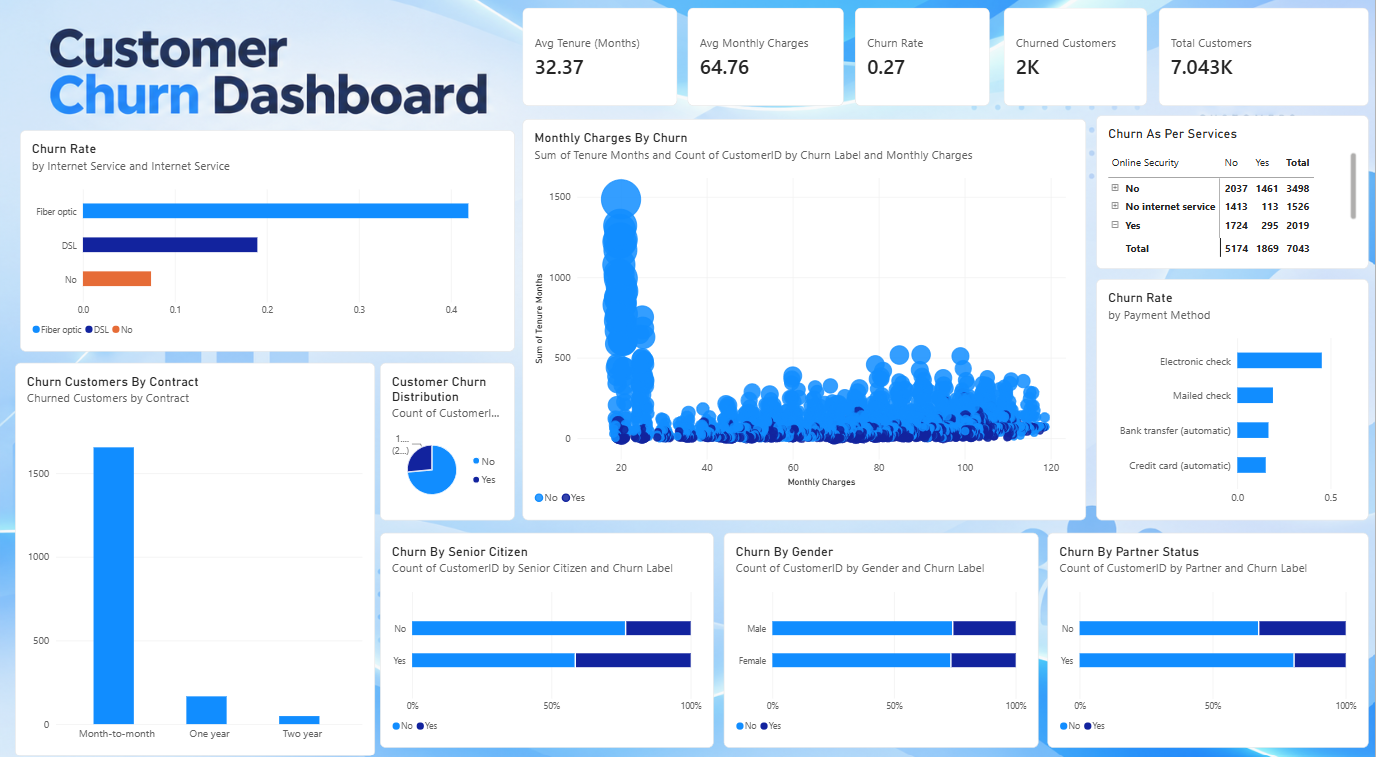

What the dashboard file says about the page in this screenshot:
{"tool":"powerbi","page":{"name":"Page 4","canvas":[1920,1080],"ordinal":0},"visuals":[{"type":"cardVisual","fields":{"Data":["Cleaned_Churn.Avg Tenure"]},"box":[729.1,19.2,216.3,137.8],"z":0},{"type":"cardVisual","fields":{"Data":["Cleaned_Churn.Avg Monthly Charges"]},"box":[959.3,19.2,218,137.8],"z":1000},{"type":"cardVisual","fields":{"Data":["Cleaned_Churn.Churn Rate"]},"box":[1193,19.2,188.4,137.8],"z":2000},{"type":"cardVisual","fields":{"Data":["Cleaned_Churn.Churned Customers"]},"box":[1400.6,19.2,201,137.7],"z":3000},{"type":"cardVisual","fields":{"Data":["CountNonNull(Cleaned_Churn.CustomerID)"]},"box":[1616.9,19.2,293,137.8],"z":4000},{"type":"pivotTable","title":"Churn As Per Services","fields":{"Rows":["Cleaned_Churn.Online Security","Cleaned_Churn.Online Backup","Cleaned_Churn.Device Protection","Cleaned_Churn.Tech Support","Cleaned_Churn.Streaming TV","Cleaned_Churn.Streaming Movies"],"Columns":["Cleaned_Churn.Churn Label"],"Values":["CountNonNull(Cleaned_Churn.CustomerID)"]},"box":[1529.7,169.2,380.2,214.5],"z":5000},{"type":"barChart","fields":{"Category":["Cleaned_Churn.Payment Method"],"Y":["Cleaned_Churn.Churn Rate"]},"box":[1529.7,397.7,380.2,336.6],"z":7000},{"type":"scatterChart","title":"Monthly Charges By Churn","fields":{"Series":["Cleaned_Churn.Churn Label"],"X":["Cleaned_Churn.Monthly Charges"],"Y":["Sum(Cleaned_Churn.Tenure Months)"],"Size":["CountNonNull(Cleaned_Churn.CustomerID)"]},"box":[729.1,174.4,786.6,559.9],"z":7001},{"type":"clusteredColumnChart","title":"Churn Customers By Contract","fields":{"Category":["Cleaned_Churn.Contract"],"Y":["Cleaned_Churn.Churned Customers"]},"box":[20.9,514.5,502.3,549.4],"z":7002},{"type":"barChart","fields":{"Category":["Cleaned_Churn.Internet Service"],"Y":["Cleaned_Churn.Churn Rate"],"Series":["Cleaned_Churn.Internet Service"]},"box":[27.9,190.1,690.7,308.7],"z":7003},{"type":"hundredPercentStackedBarChart","title":"Churn By Partner Status","fields":{"Category":["Cleaned_Churn.Partner"],"Y":["CountNonNull(Cleaned_Churn.CustomerID)"],"Series":["Cleaned_Churn.Churn Label"]},"box":[1461.6,751.7,448.3,300],"z":7004},{"type":"hundredPercentStackedBarChart","title":"Churn By Gender","fields":{"Category":["Cleaned_Churn.Gender"],"Y":["CountNonNull(Cleaned_Churn.CustomerID)"],"Series":["Cleaned_Churn.Churn Label"]},"box":[1009.9,751.7,439.5,300],"z":7005},{"type":"hundredPercentStackedBarChart","title":"Churn By Senior Citizen","fields":{"Category":["Cleaned_Churn.Senior Citizen"],"Y":["CountNonNull(Cleaned_Churn.CustomerID)"],"Series":["Cleaned_Churn.Churn Label"]},"box":[530.2,751.7,465.7,300],"z":7006},{"type":"pieChart","title":"Customer Churn Distribution","fields":{"Category":["Cleaned_Churn.Churn Label"],"Y":["CountNonNull(Cleaned_Churn.CustomerID)"]},"box":[530.2,514.5,188.4,219.8],"z":7007}]}

Visuals, with their boxes in screenshot pixels (x1, y1, x2, y2), scaled from the page's 1920x1080 canvas onto the 1377x757 screenshot:
cardVisual - Cleaned_Churn.Avg Tenure: (x1=523, y1=13, x2=678, y2=110)
cardVisual - Cleaned_Churn.Avg Monthly Charges: (x1=688, y1=13, x2=844, y2=110)
cardVisual - Cleaned_Churn.Churn Rate: (x1=856, y1=13, x2=991, y2=110)
cardVisual - Cleaned_Churn.Churned Customers: (x1=1004, y1=13, x2=1149, y2=110)
cardVisual - CountNonNull(Cleaned_Churn.CustomerID): (x1=1160, y1=13, x2=1370, y2=110)
"Churn As Per Services" pivotTable: (x1=1097, y1=119, x2=1370, y2=269)
barChart - Cleaned_Churn.Payment Method x Cleaned_Churn.Churn Rate: (x1=1097, y1=279, x2=1370, y2=515)
"Monthly Charges By Churn" scatterChart: (x1=523, y1=122, x2=1087, y2=515)
"Churn Customers By Contract" clusteredColumnChart: (x1=15, y1=361, x2=375, y2=746)
barChart - Cleaned_Churn.Internet Service x Cleaned_Churn.Churn Rate: (x1=20, y1=133, x2=515, y2=350)
"Churn By Partner Status" hundredPercentStackedBarChart: (x1=1048, y1=527, x2=1370, y2=737)
"Churn By Gender" hundredPercentStackedBarChart: (x1=724, y1=527, x2=1039, y2=737)
"Churn By Senior Citizen" hundredPercentStackedBarChart: (x1=380, y1=527, x2=714, y2=737)
"Customer Churn Distribution" pieChart: (x1=380, y1=361, x2=515, y2=515)
